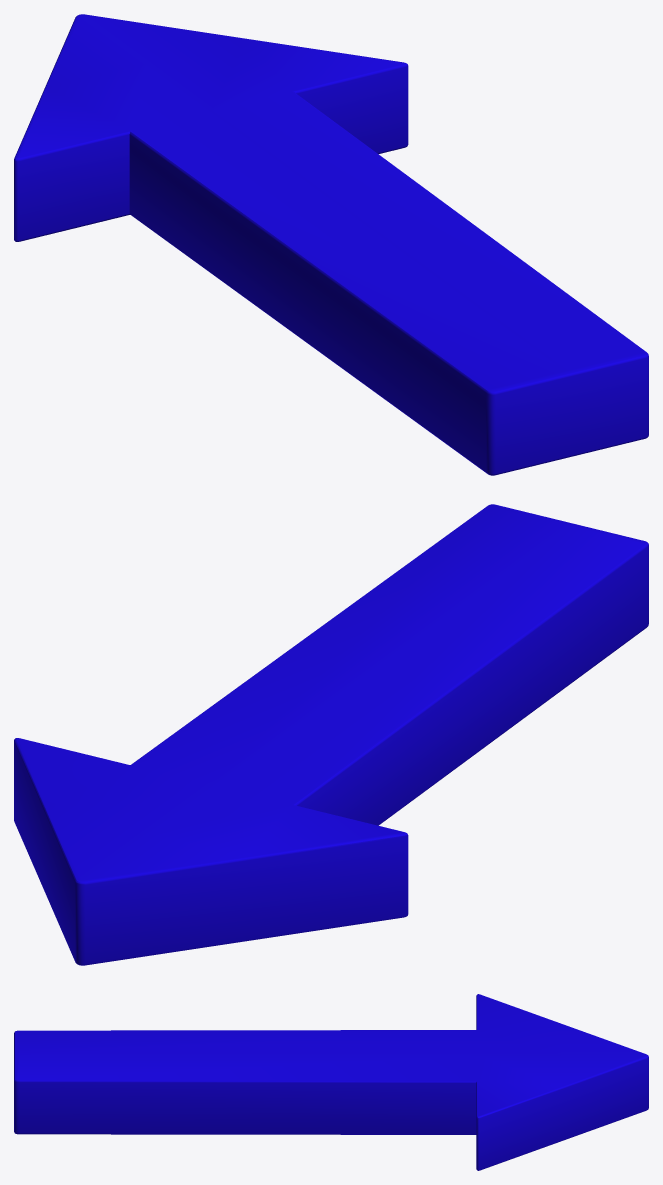
Rendered from arrow.fbx.
3 renders of one model, top to bottom at view 1: azimuth 30°, elevation 25°; view 2: azimuth 150°, elevation 25°; view 3: azimuth 270°, elevation 25°, orthographic. The views are drawn at different scales.
Visible parts, largest first — view 1: Arrow 4; view 2: Arrow 4; view 3: Arrow 4.
Boxes of the visible parts, x1,y1,x2,y2 form: Arrow 4: [14, 14, 648, 475]; Arrow 4: [14, 504, 648, 965]; Arrow 4: [14, 994, 648, 1170].
Bounding box in the file's own units: 53.46 × 10.9 × 116.
